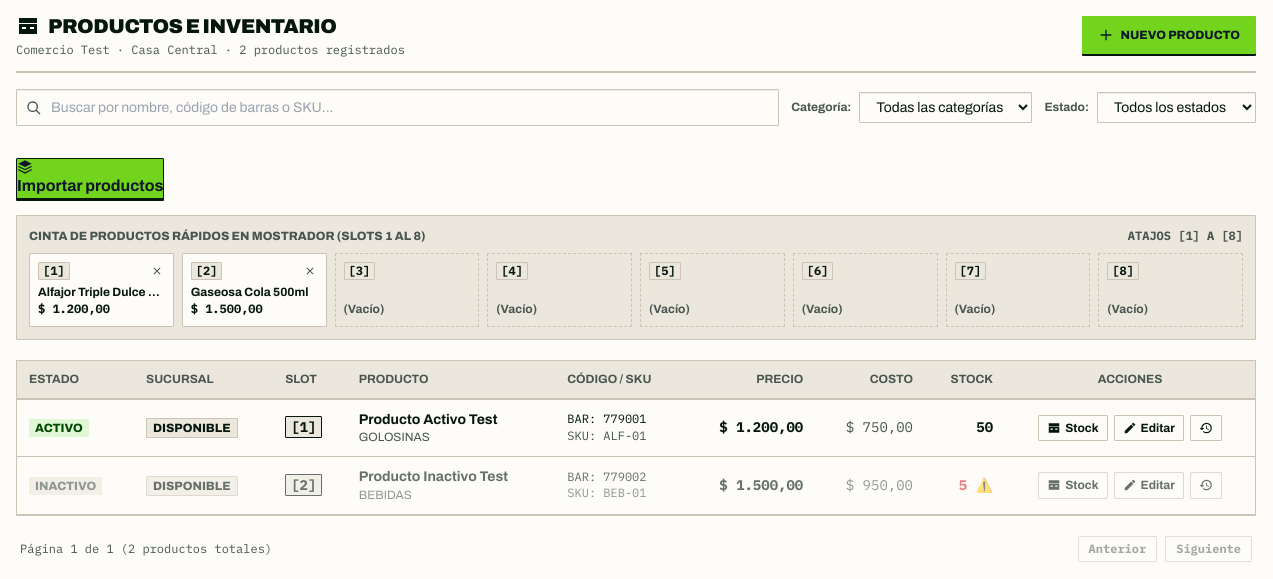
Test case: ProductsScreen ("Mostrador vivo" Visual Catalog) › filters products by status (ALL, ACTIVE, INACTIVE)
Expected: the text "Producto Activo Test" is shown, [359,412,497,427]
Expected: the text "Producto Inactivo Test" is shown, [359,469,508,484]
Select ACTIVE
Select "Solo activos" in the dropdown labelled "Estado:" at {"x": 1176, "y": 108}, box [1097,92,1256,123]
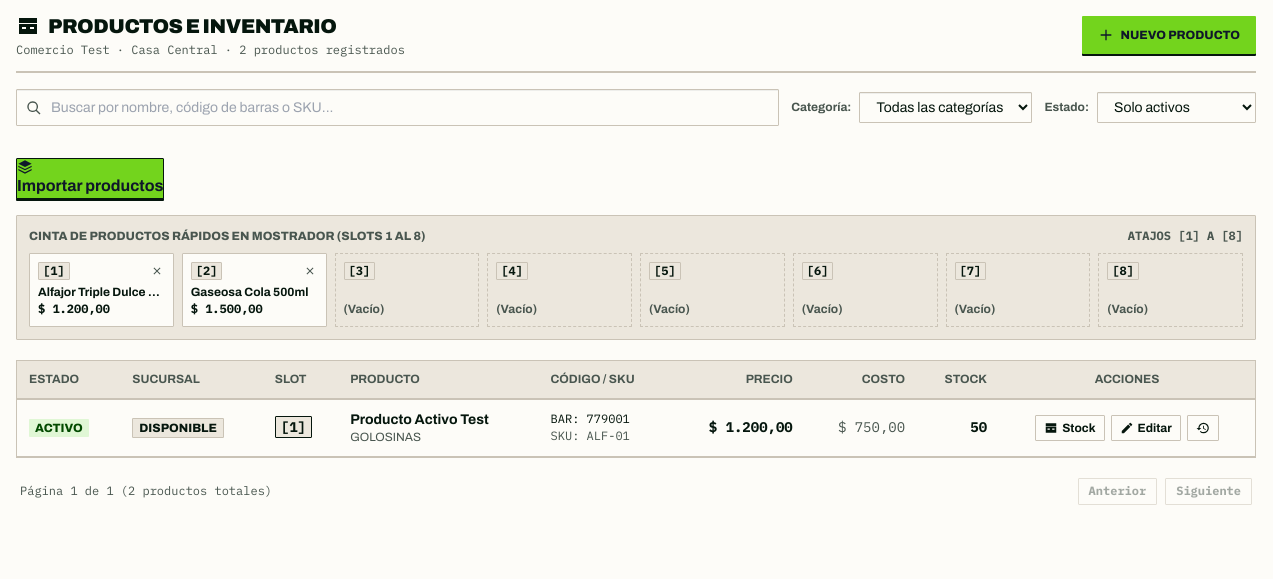
Expected: the text "Producto Activo Test" is shown, [350,412,489,427]
Expected: the text "Producto Inactivo Test" is gone
Select INACTIVE
Select "Solo inactivos" in the dropdown labelled "Estado:" at {"x": 1176, "y": 108}, box [1097,92,1256,123]
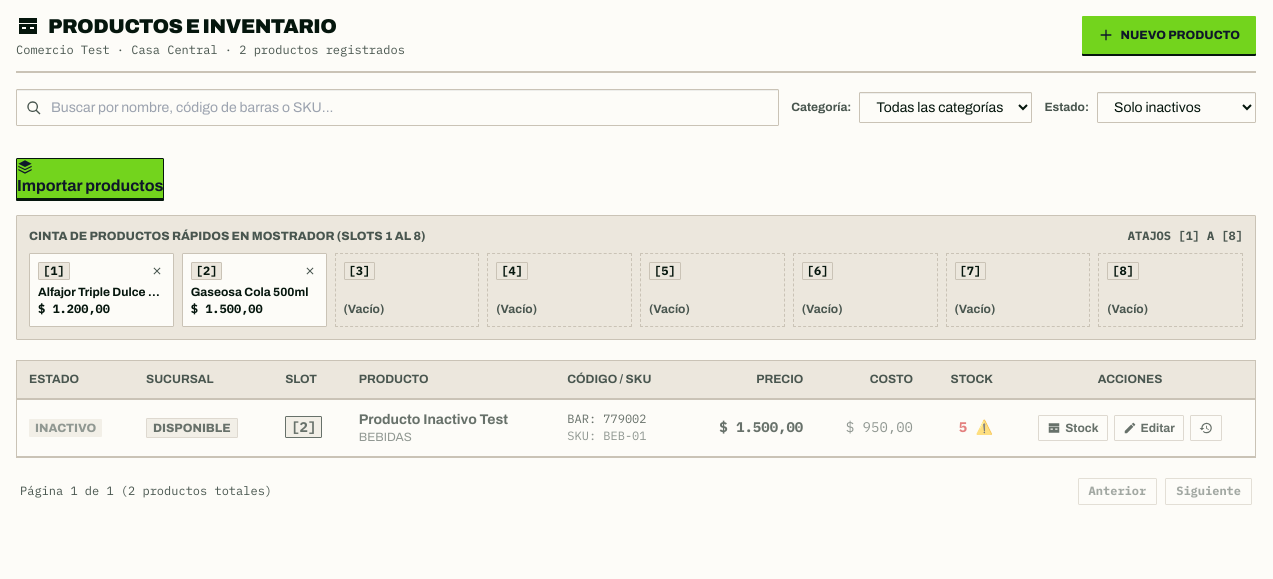
Expected: the text "Producto Activo Test" is gone
Expected: the text "Producto Inactivo Test" is shown, [359,412,508,427]
